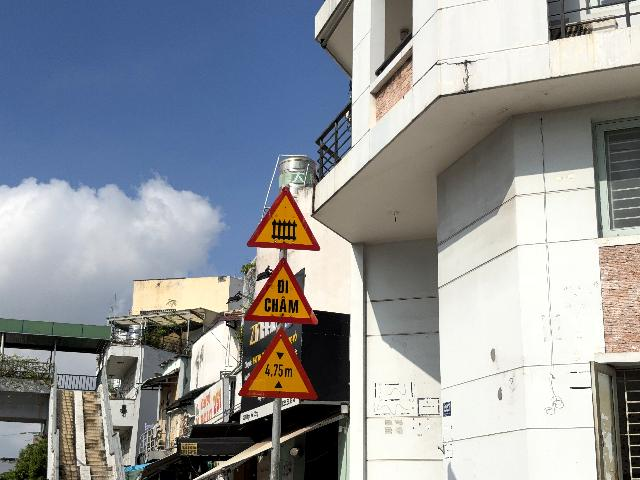chieu-cao-tinh-khong-thuc-te: (238, 327, 318, 400)
di-cham: (243, 257, 319, 325)
noi-giao-nhau-voi-duong-sat-co-rao-chan: (246, 186, 321, 251)
